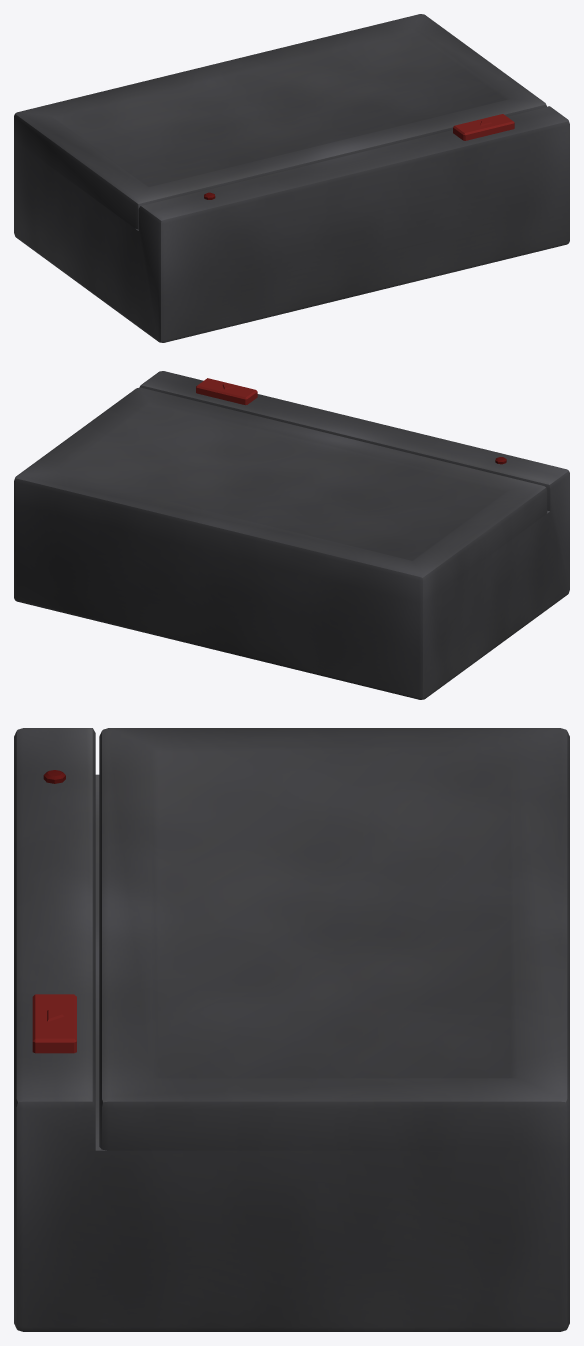
File: rewinder.glb
The picture shows the model from 3 angles, top to bottom: view 1: azimuth 30°, elevation 25°; view 2: azimuth 150°, elevation 25°; view 3: azimuth 270°, elevation 25°; orthographic projection. The views are drawn at different scales.
Parts seen in each view (by area): view 1: Base, Lid, Button; view 2: Lid, Base, Button; view 3: Lid, Base, Button.
Boxes of the visible parts, x1=… form: Base: x1=14, y1=106, x2=569, y2=342; Lid: x1=14, y1=14, x2=546, y2=229; Button: x1=453, y1=114, x2=514, y2=140; Lid: x1=14, y1=387, x2=547, y2=603; Base: x1=14, y1=371, x2=569, y2=699; Button: x1=196, y1=378, x2=257, y2=405; Lid: x1=99, y1=728, x2=569, y2=1150; Base: x1=14, y1=728, x2=569, y2=1331; Button: x1=32, y1=994, x2=76, y2=1053.
Size of what is drawn, in the model's own units: 0.24 by 0.0746 by 0.15.
4 materials, 1 textured.
